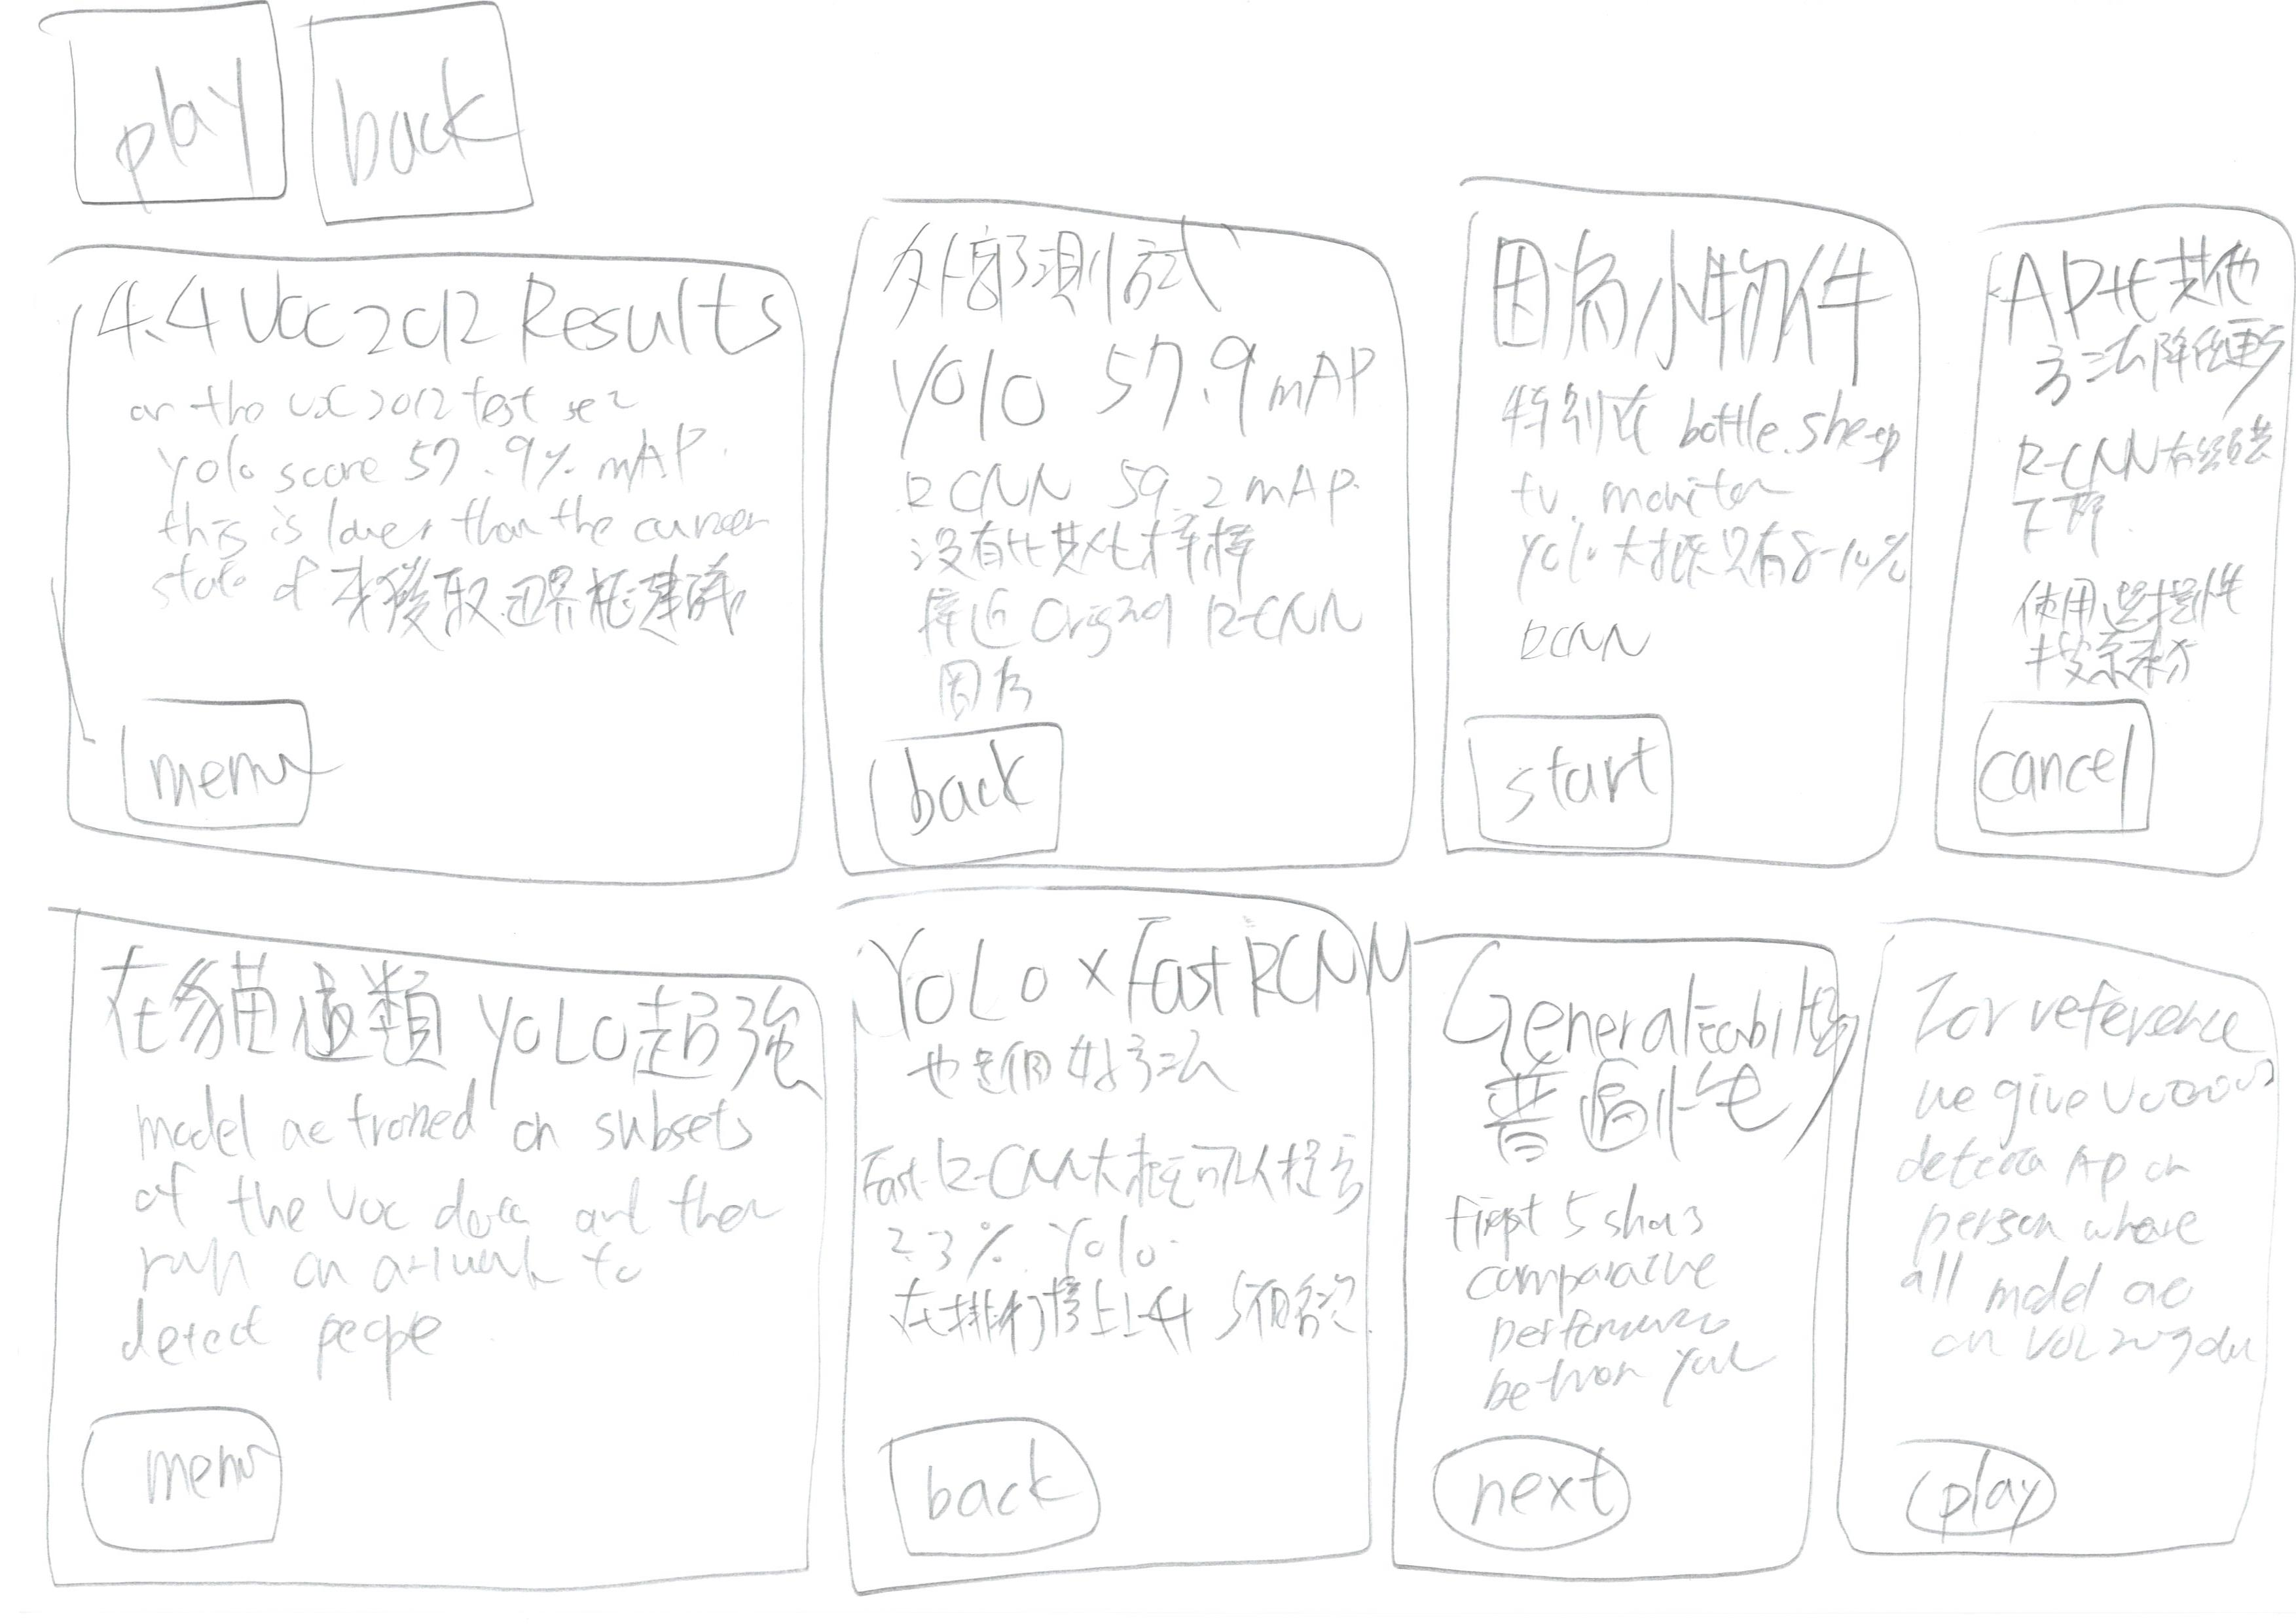back: (304, 0, 563, 244), (856, 1403, 1125, 1577), (844, 701, 1079, 882)
cancel: (1937, 691, 2182, 872)
menu: (56, 1385, 297, 1575), (104, 671, 359, 849)
next: (1419, 1417, 1653, 1575)
play: (21, 0, 292, 236), (1851, 1427, 2074, 1555)
quadruple: (35, 884, 832, 1624), (7, 197, 821, 914), (795, 174, 1426, 909), (819, 884, 1419, 1624), (1415, 167, 1944, 916), (1382, 884, 1886, 1624), (1835, 884, 2296, 1620), (1913, 162, 2296, 909)
row: (9, 877, 2296, 1624), (9, 176, 2296, 910), (9, 0, 2296, 246)
small-title: (109, 958, 789, 1107), (902, 228, 1361, 424), (1440, 958, 1832, 1160), (113, 269, 784, 373), (893, 928, 1354, 1058), (1486, 246, 1871, 401), (1994, 257, 2263, 417), (1916, 968, 2220, 1055)
start: (1435, 687, 1707, 877)
text: (83, 1084, 793, 1381), (90, 371, 723, 650), (865, 1055, 1362, 1388), (904, 452, 1380, 731), (1892, 1067, 2256, 1422), (1470, 385, 1900, 663), (2004, 411, 2275, 687), (1450, 1178, 1758, 1408)
